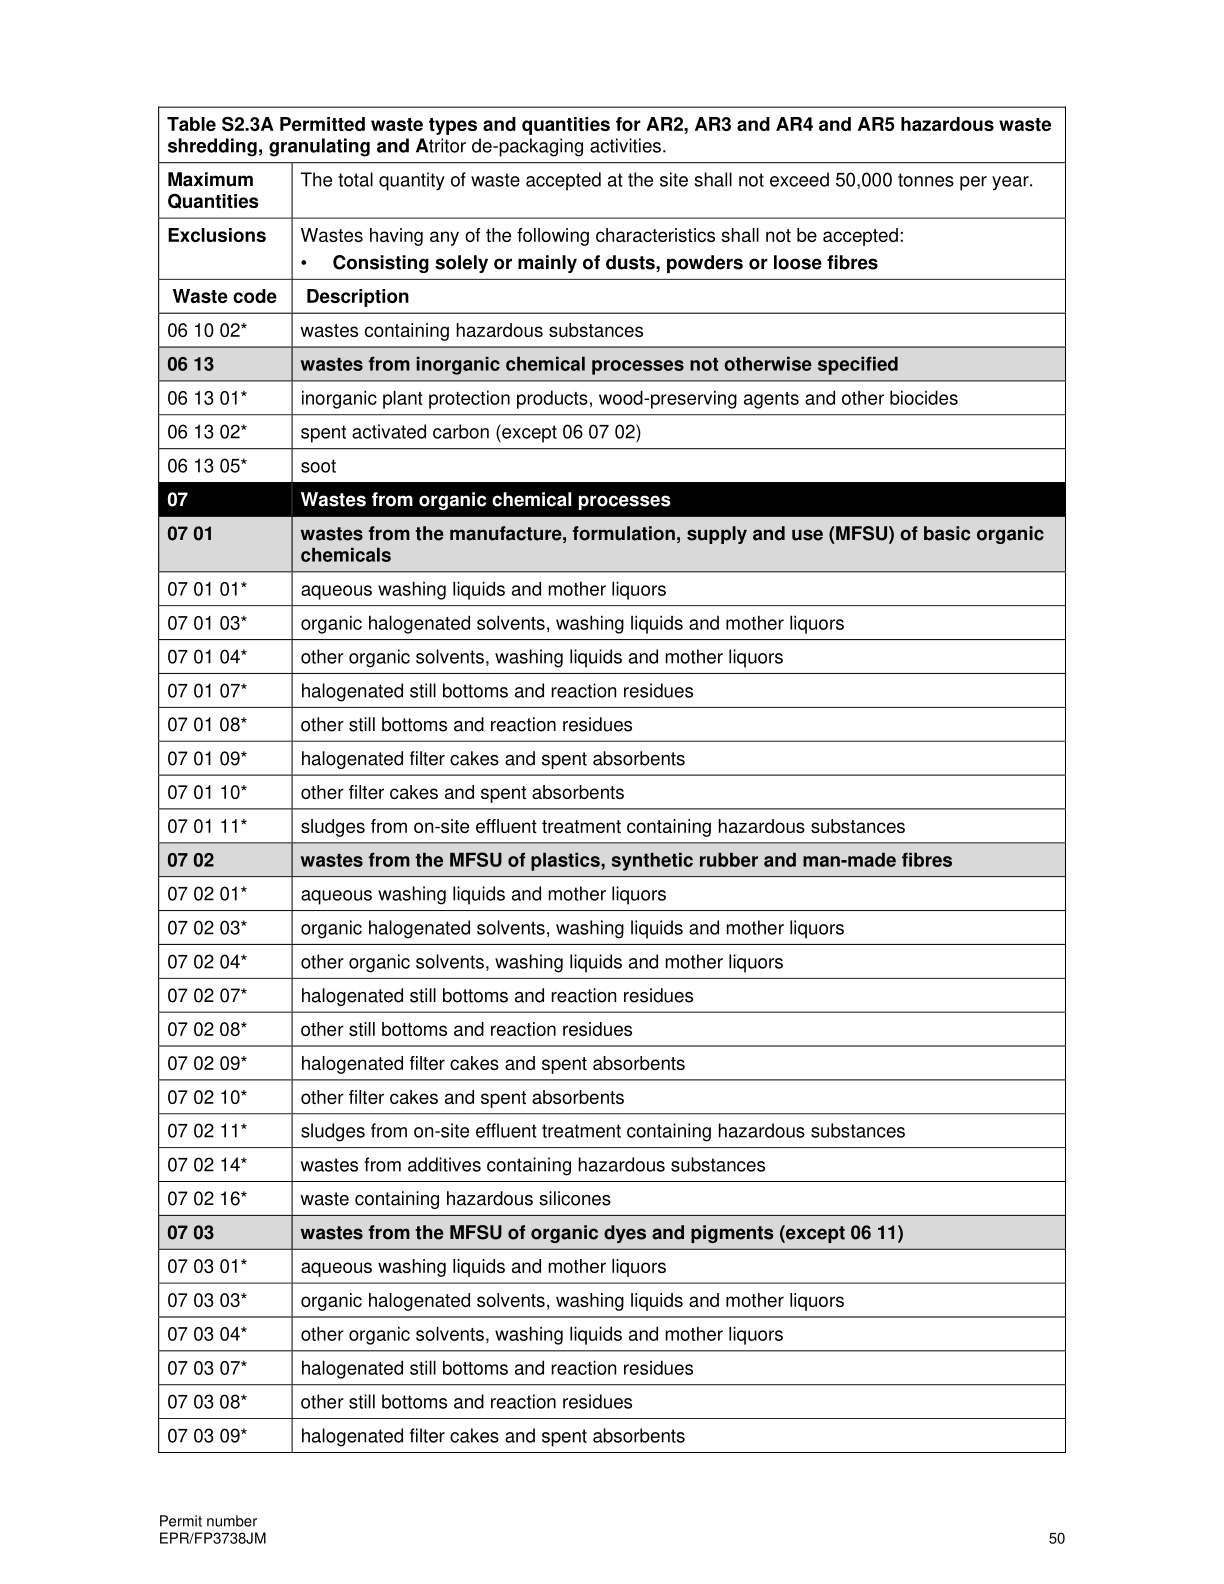merged_cells: (157, 105, 1067, 1454)
